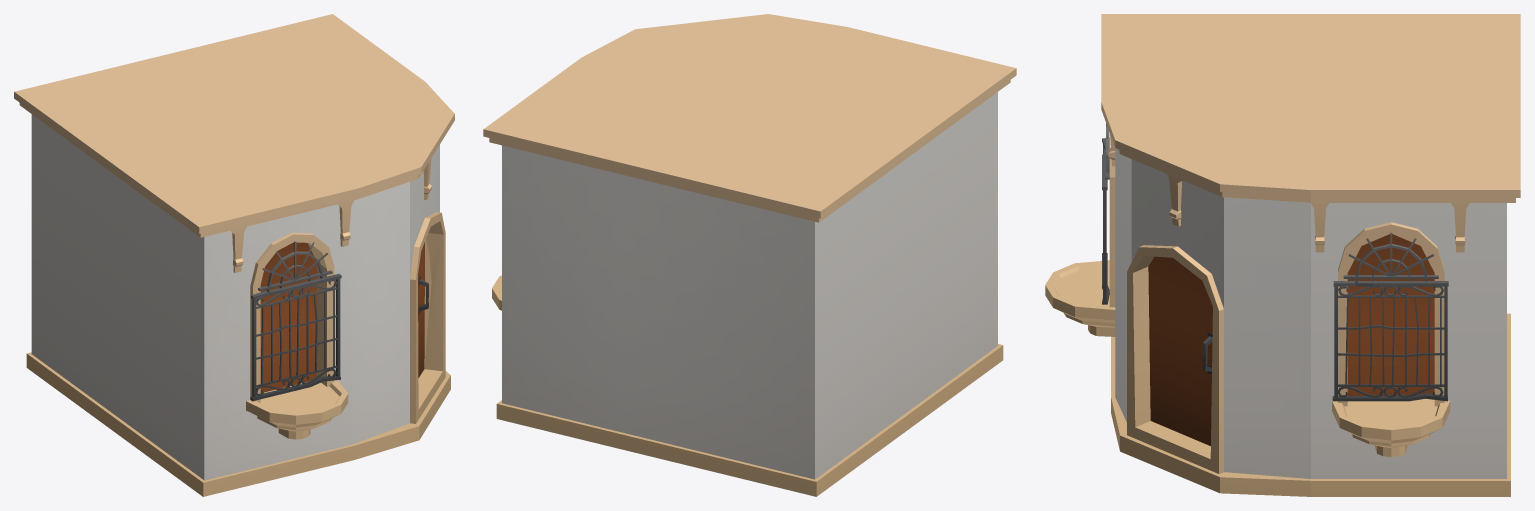
File: Room 03.fbx
3 views of the same model, side by side, from view 1: azimuth 30°, elevation 25°; view 2: azimuth 150°, elevation 25°; view 3: azimuth 270°, elevation 25° (orthographic). The views are drawn at different scales.
Visible parts, largest first — view 1: Room 03 high, Room 03, Room 03 low; view 2: Room 03 high, Room 03; view 3: Room 03 high, Room 03, Room 03 low.
Part boxes in pixels (x1,y1,x2,y2): Room 03 high: (14,14,454,496); Room 03: (14,92,453,496); Room 03 low: (204,206,431,412); Room 03 high: (483,14,1016,496); Room 03: (483,77,1003,496); Room 03 high: (1045,14,1520,496); Room 03: (1045,114,1519,496); Room 03 low: (1055,151,1506,444).
Bounding box in the file's own units: 4.57 × 3.33 × 4.61.
1 material, 1 textured.
